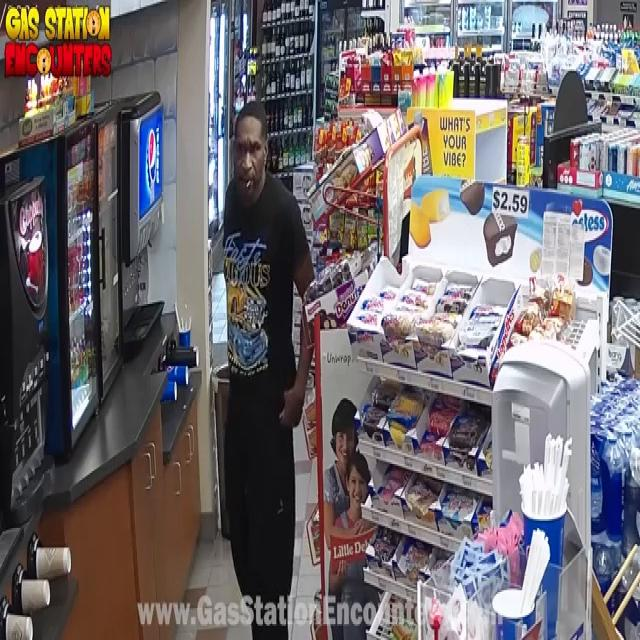hands: (281, 363, 308, 425)
person: (223, 101, 313, 603)
